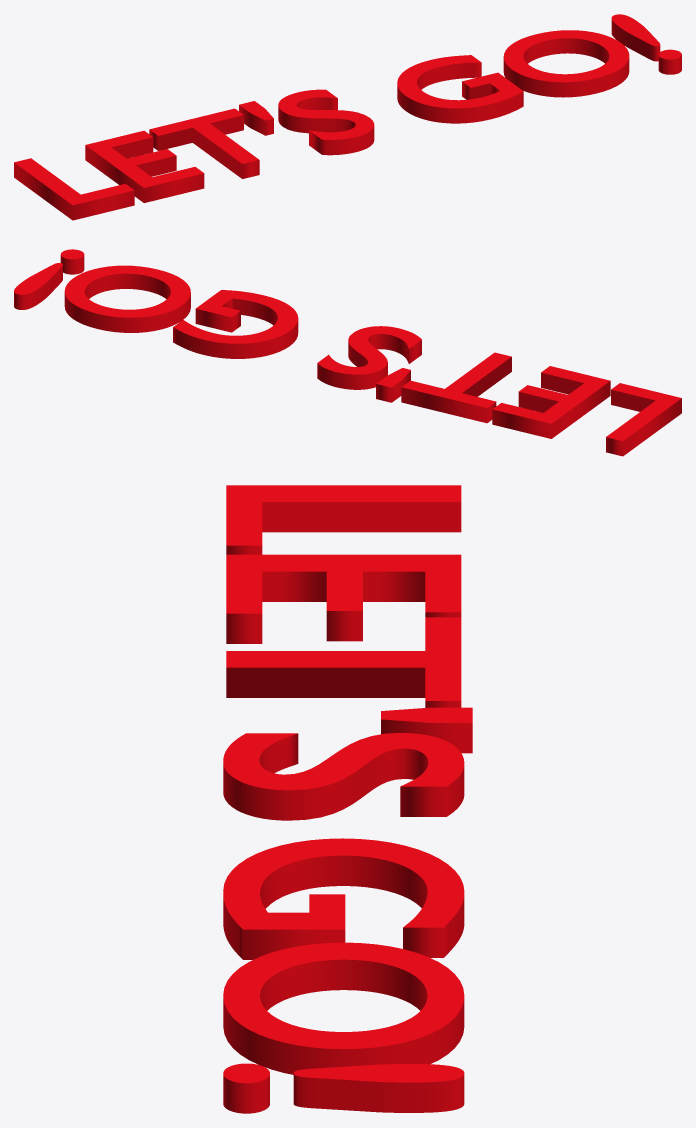
The model's file is start.fbx.
3 views of the same model, one above another, from view 1: azimuth 30°, elevation 25°; view 2: azimuth 150°, elevation 25°; view 3: azimuth 270°, elevation 25° (orthographic). The views are drawn at different scales.
Visible parts, largest first — view 1: Text; view 2: Text; view 3: Text.
Part boxes in pixels (bbox=[...]): Text: bbox=[14, 14, 681, 220]; Text: bbox=[14, 249, 681, 456]; Text: bbox=[223, 485, 472, 1113].
Size of the model in its own units: 422 by 10 by 74.5.
